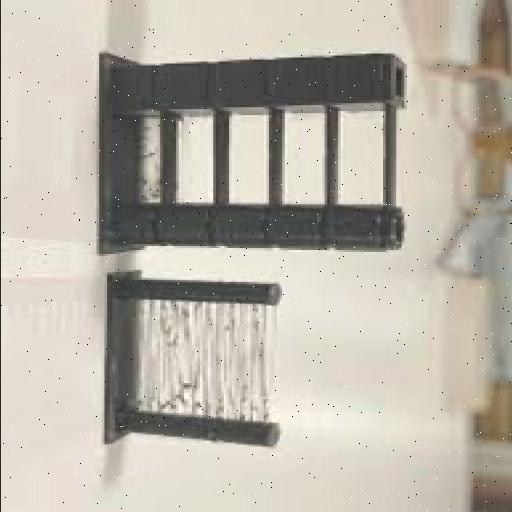stringing: (140, 308, 275, 408)
